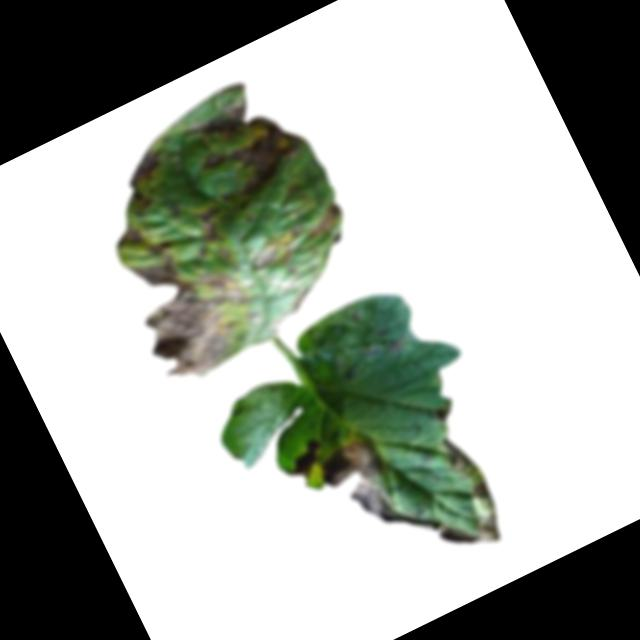Early_blight: (116, 225, 274, 391), (183, 82, 319, 219), (313, 427, 433, 567), (401, 429, 512, 564), (110, 143, 181, 214), (248, 223, 314, 280), (279, 433, 331, 485), (300, 196, 351, 242), (357, 322, 406, 364), (110, 220, 149, 252), (193, 200, 223, 225)
